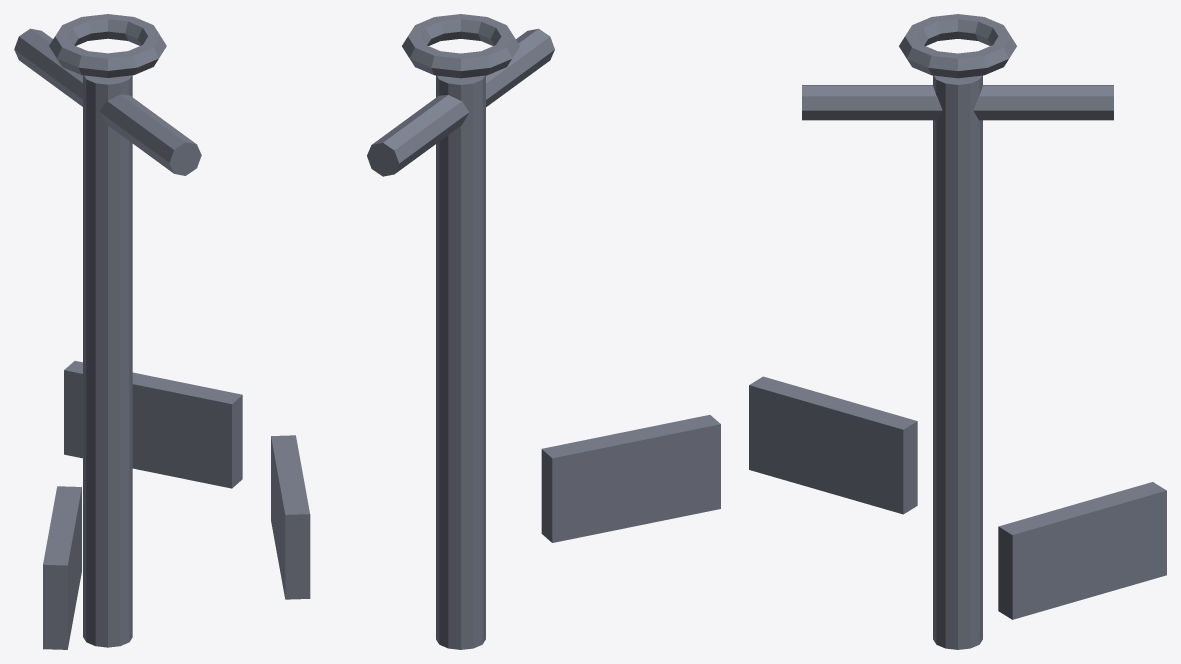
The model's file is anker_lod0.fbx.
3 views of the same model, side by side, from view 1: azimuth 30°, elevation 25°; view 2: azimuth 150°, elevation 25°; view 3: azimuth 270°, elevation 25° (orthographic).
Visible parts, largest first — view 1: Cylinder, Cube.001, Cylinder.001, Cube, Torus.003; view 2: Cylinder, Cube, Cylinder.001, Cube.001, Torus.003; view 3: Cylinder, Cube.001, Cube, Cylinder.001, Torus.003.
Part boxes in pixels (bbox=[...]): Cylinder: bbox=[83, 75, 132, 647]; Cube.001: bbox=[64, 361, 242, 488]; Cylinder.001: bbox=[14, 28, 201, 175]; Cube: bbox=[43, 486, 81, 649]; Torus.003: bbox=[49, 14, 166, 77]; Cylinder: bbox=[436, 75, 485, 649]; Cube: bbox=[541, 415, 720, 542]; Cylinder.001: bbox=[367, 28, 554, 176]; Cube.001: bbox=[271, 435, 310, 599]; Torus.003: bbox=[402, 14, 519, 78]; Cylinder: bbox=[933, 75, 982, 649]; Cube.001: bbox=[998, 482, 1166, 619]; Cube: bbox=[749, 376, 917, 514]; Cylinder.001: bbox=[802, 85, 1113, 120]; Torus.003: bbox=[899, 14, 1016, 78].
Bounding box in the file's own units: 1.2 × 2.13 × 1.34.
